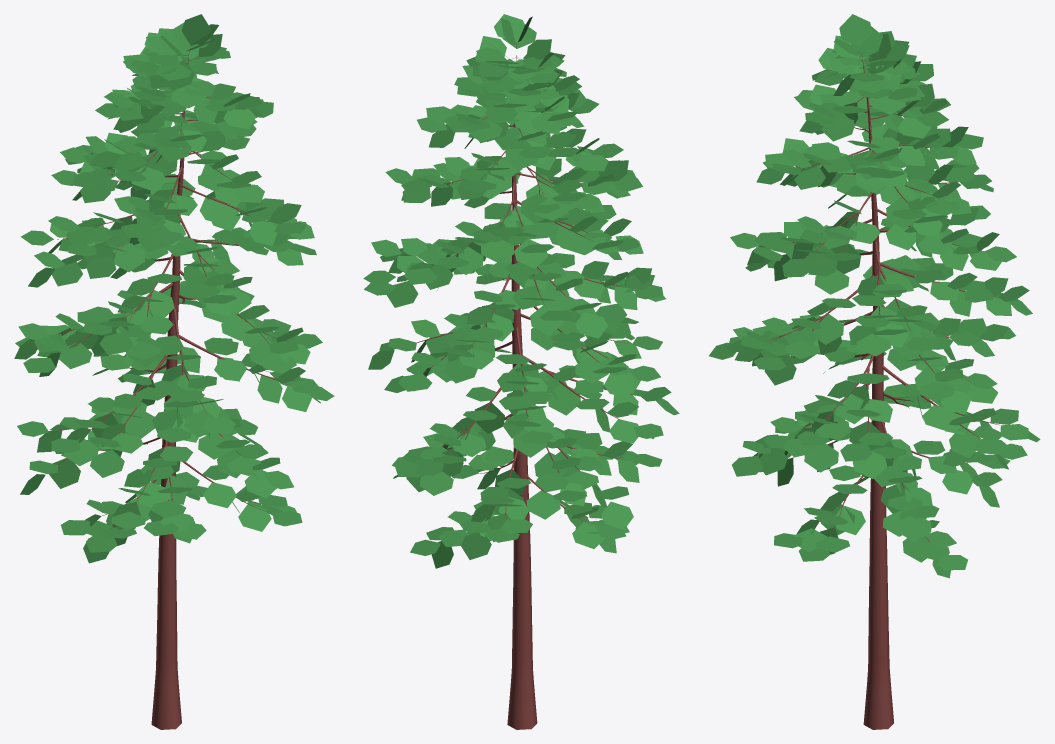
Rendered from tree_3.gltf.
3 views of the same model, side by side, from view 1: azimuth 30°, elevation 25°; view 2: azimuth 150°, elevation 25°; view 3: azimuth 270°, elevation 25° (orthographic).
Visible parts, largest first — view 1: leaves.002, tree.002; view 2: leaves.002, tree.002; view 3: leaves.002, tree.002.
Part boxes in pixels (x1=…): leaves.002: x1=14, y1=14, x2=334, y2=563; tree.002: x1=53, y1=51, x2=295, y2=729; leaves.002: x1=363, y1=14, x2=679, y2=568; tree.002: x1=402, y1=46, x2=632, y2=729; leaves.002: x1=709, y1=14, x2=1040, y2=578; tree.002: x1=770, y1=53, x2=1000, y2=729.
Size of the model in its own units: 19.56 by 46.32 by 19.6.
